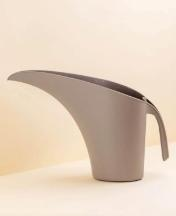ARROSOIR: (3, 69, 176, 188)
